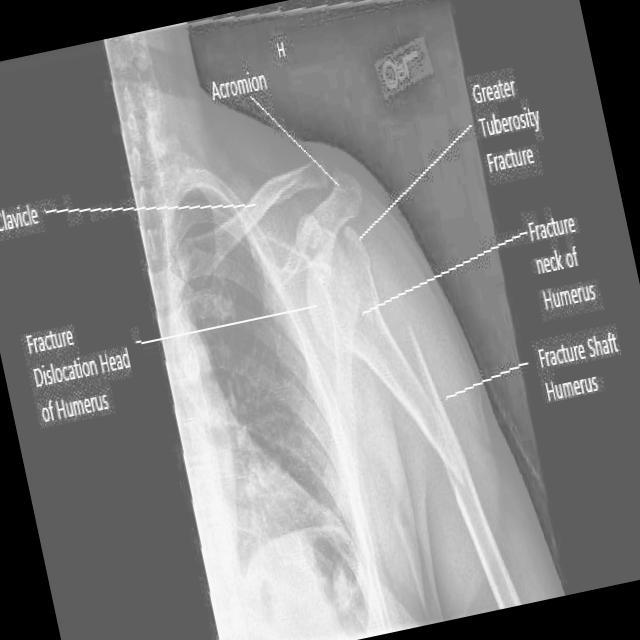Fracture Dislocation: (329, 213, 400, 272), (294, 275, 339, 330)
